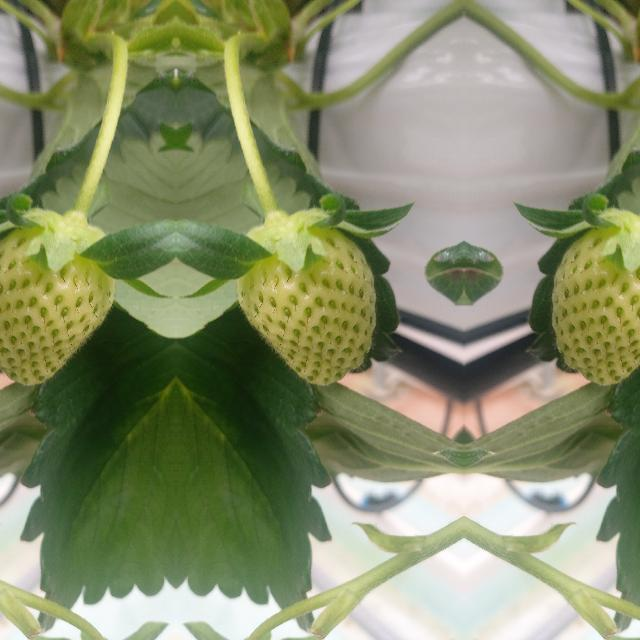Health_25: (236, 228, 374, 386), (0, 228, 114, 385), (551, 228, 640, 385)
